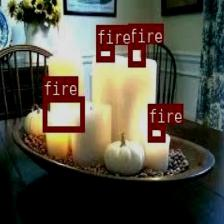fire: (43, 96, 83, 131), (127, 42, 144, 66), (148, 124, 164, 141), (96, 45, 114, 60)
